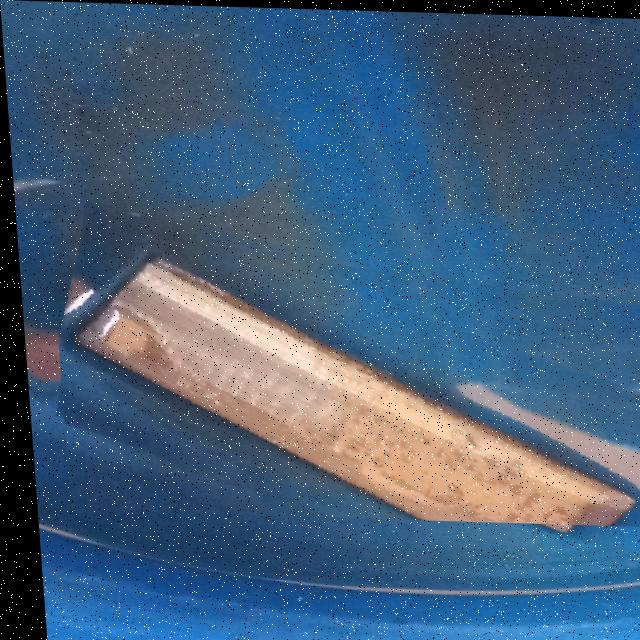wood: (46, 227, 640, 524)
